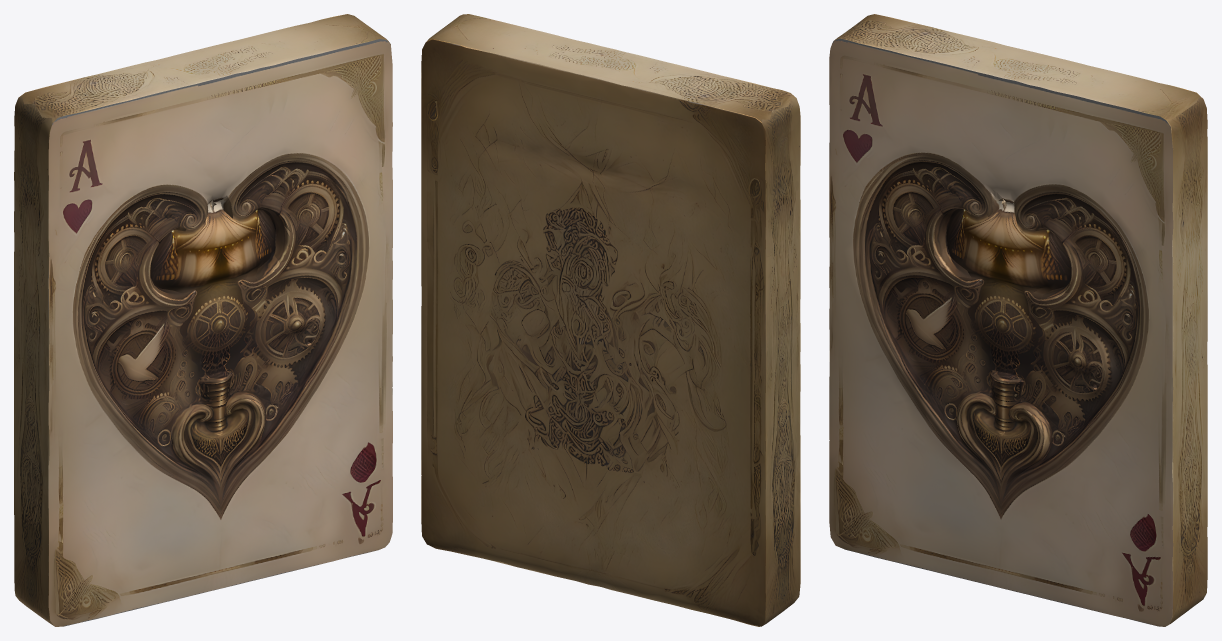
File: Heart.fbx
3 renders of one model, left to right at view 1: azimuth 30°, elevation 25°; view 2: azimuth 150°, elevation 25°; view 3: azimuth 330°, elevation 25°, orthographic.
Visible parts, largest first — view 1: input; view 2: input; view 3: input.
Part boxes in pixels (left/top/right/bottom): input: left=14, top=14, right=392, bottom=626; input: left=421, top=14, right=800, bottom=626; input: left=829, top=14, right=1207, bottom=626.
Size of the model in its own units: 70.43 by 99.97 by 12.97.
Materials: 1 (1 with a texture image).
